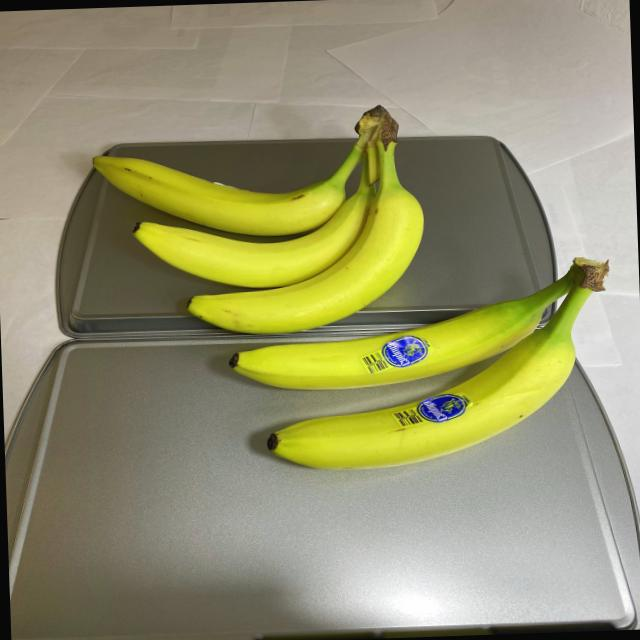banana: (218, 256, 620, 474), (84, 98, 434, 338)
